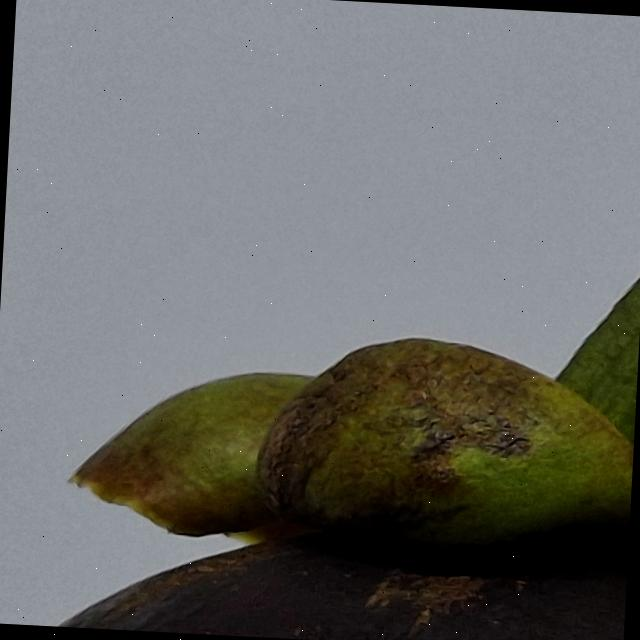mangosteen: (0, 178, 640, 640)
